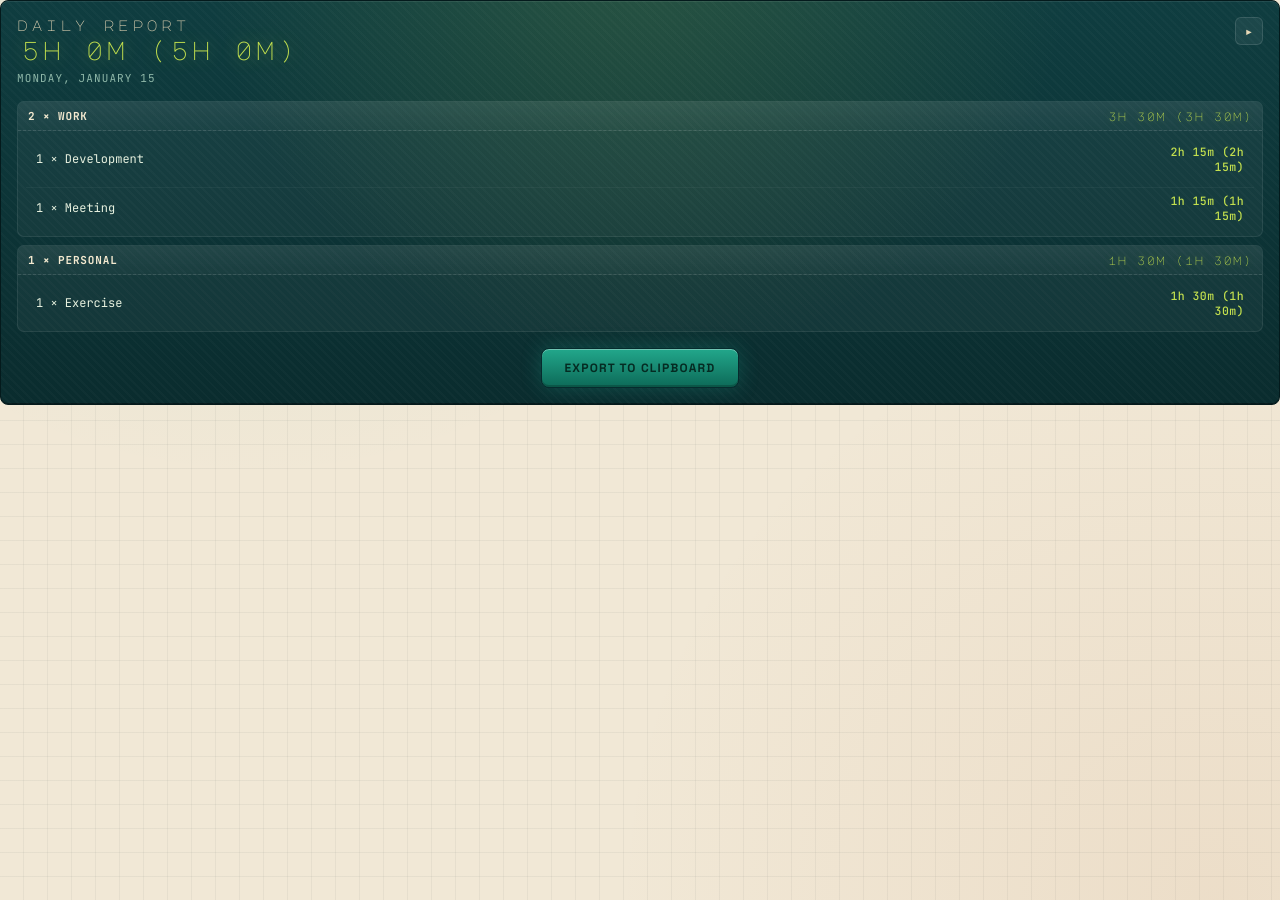
Test case: DailyReport Component › Clipboard Functionality › should clear existing timer when copying multiple times
// Click first task
Click the button with class "task-summary" that starts with "1 × Development": [90, 159] box top-left (26, 139), bottom-right (1254, 179)
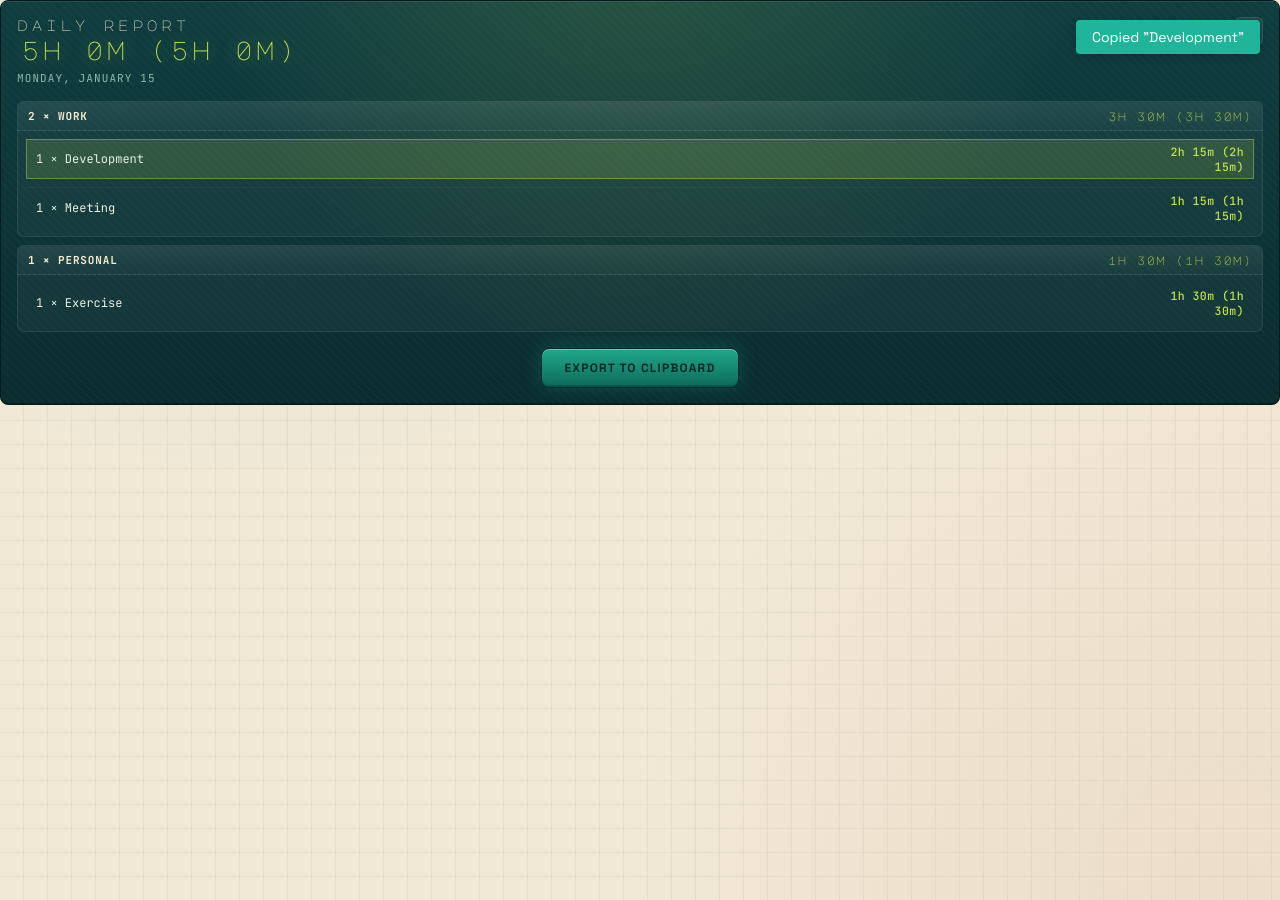
Check: the message with class "copy-toast" reads "Copied \"Development\"", box top-left (1092, 28), bottom-right (1244, 46)
// Click second task quickly (before first timer expires)
Click the button with class "task-summary" showing "1 × Meeting 1h 15m (1h 15m)": [76, 208] box top-left (26, 187), bottom-right (1254, 228)
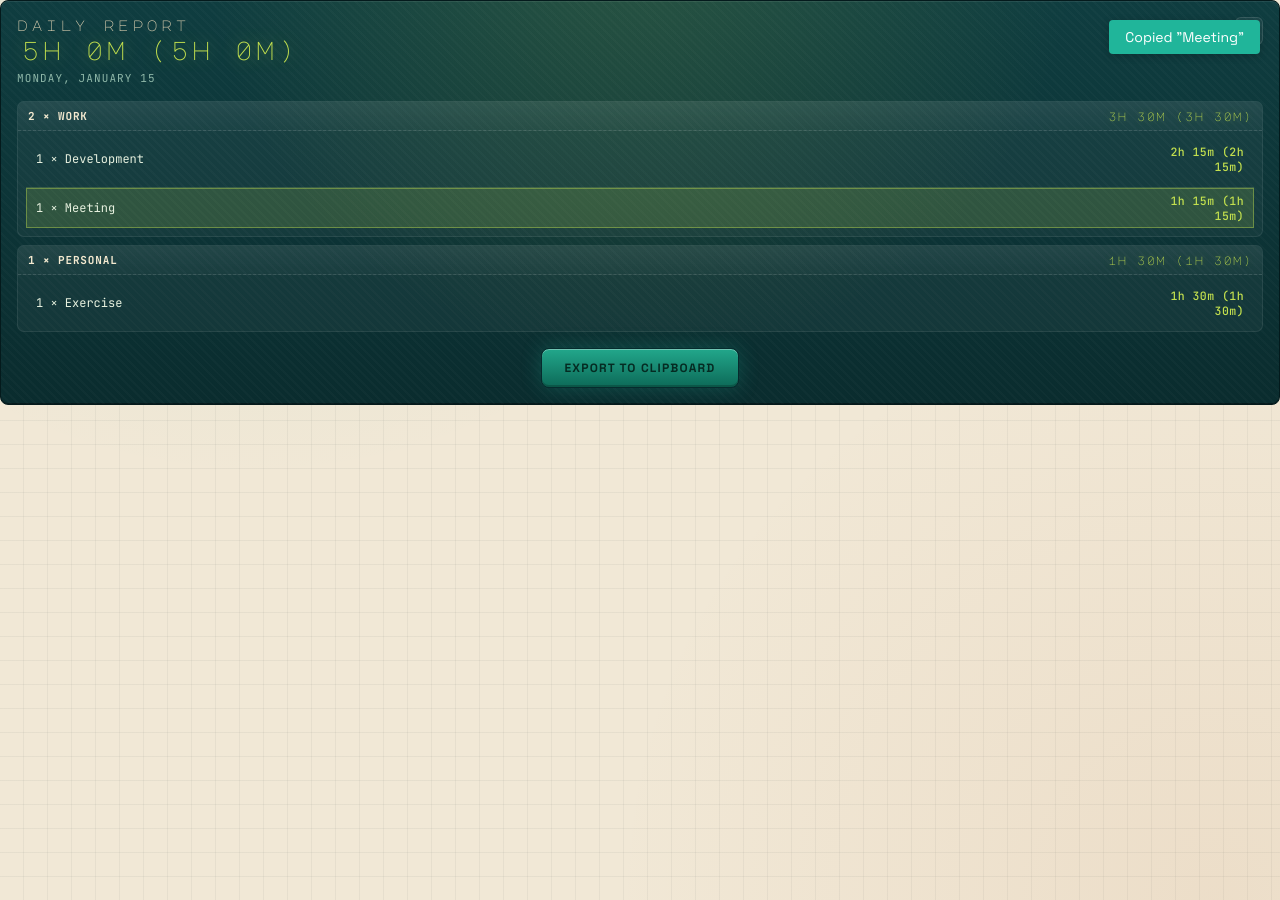
Check: the message with class "copy-toast" reads "Copied \"Meeting\"", box top-left (1125, 28), bottom-right (1244, 46)
